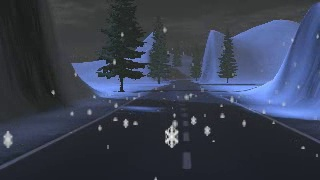Lane: (0, 80, 319, 179)
